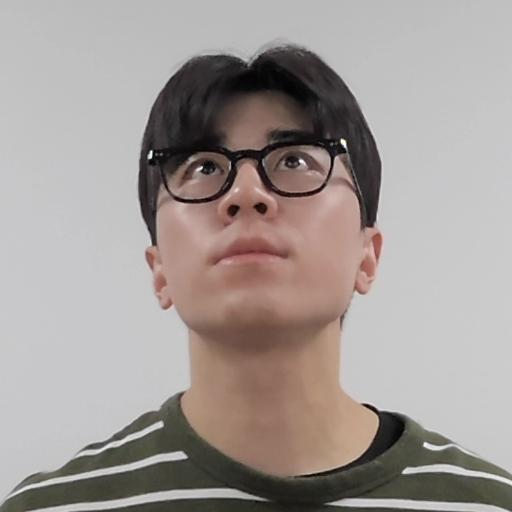no_glasses: (126, 56, 392, 365)
